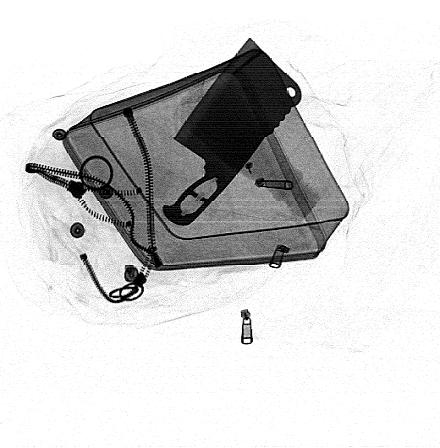Knife: (163, 35, 302, 227)
